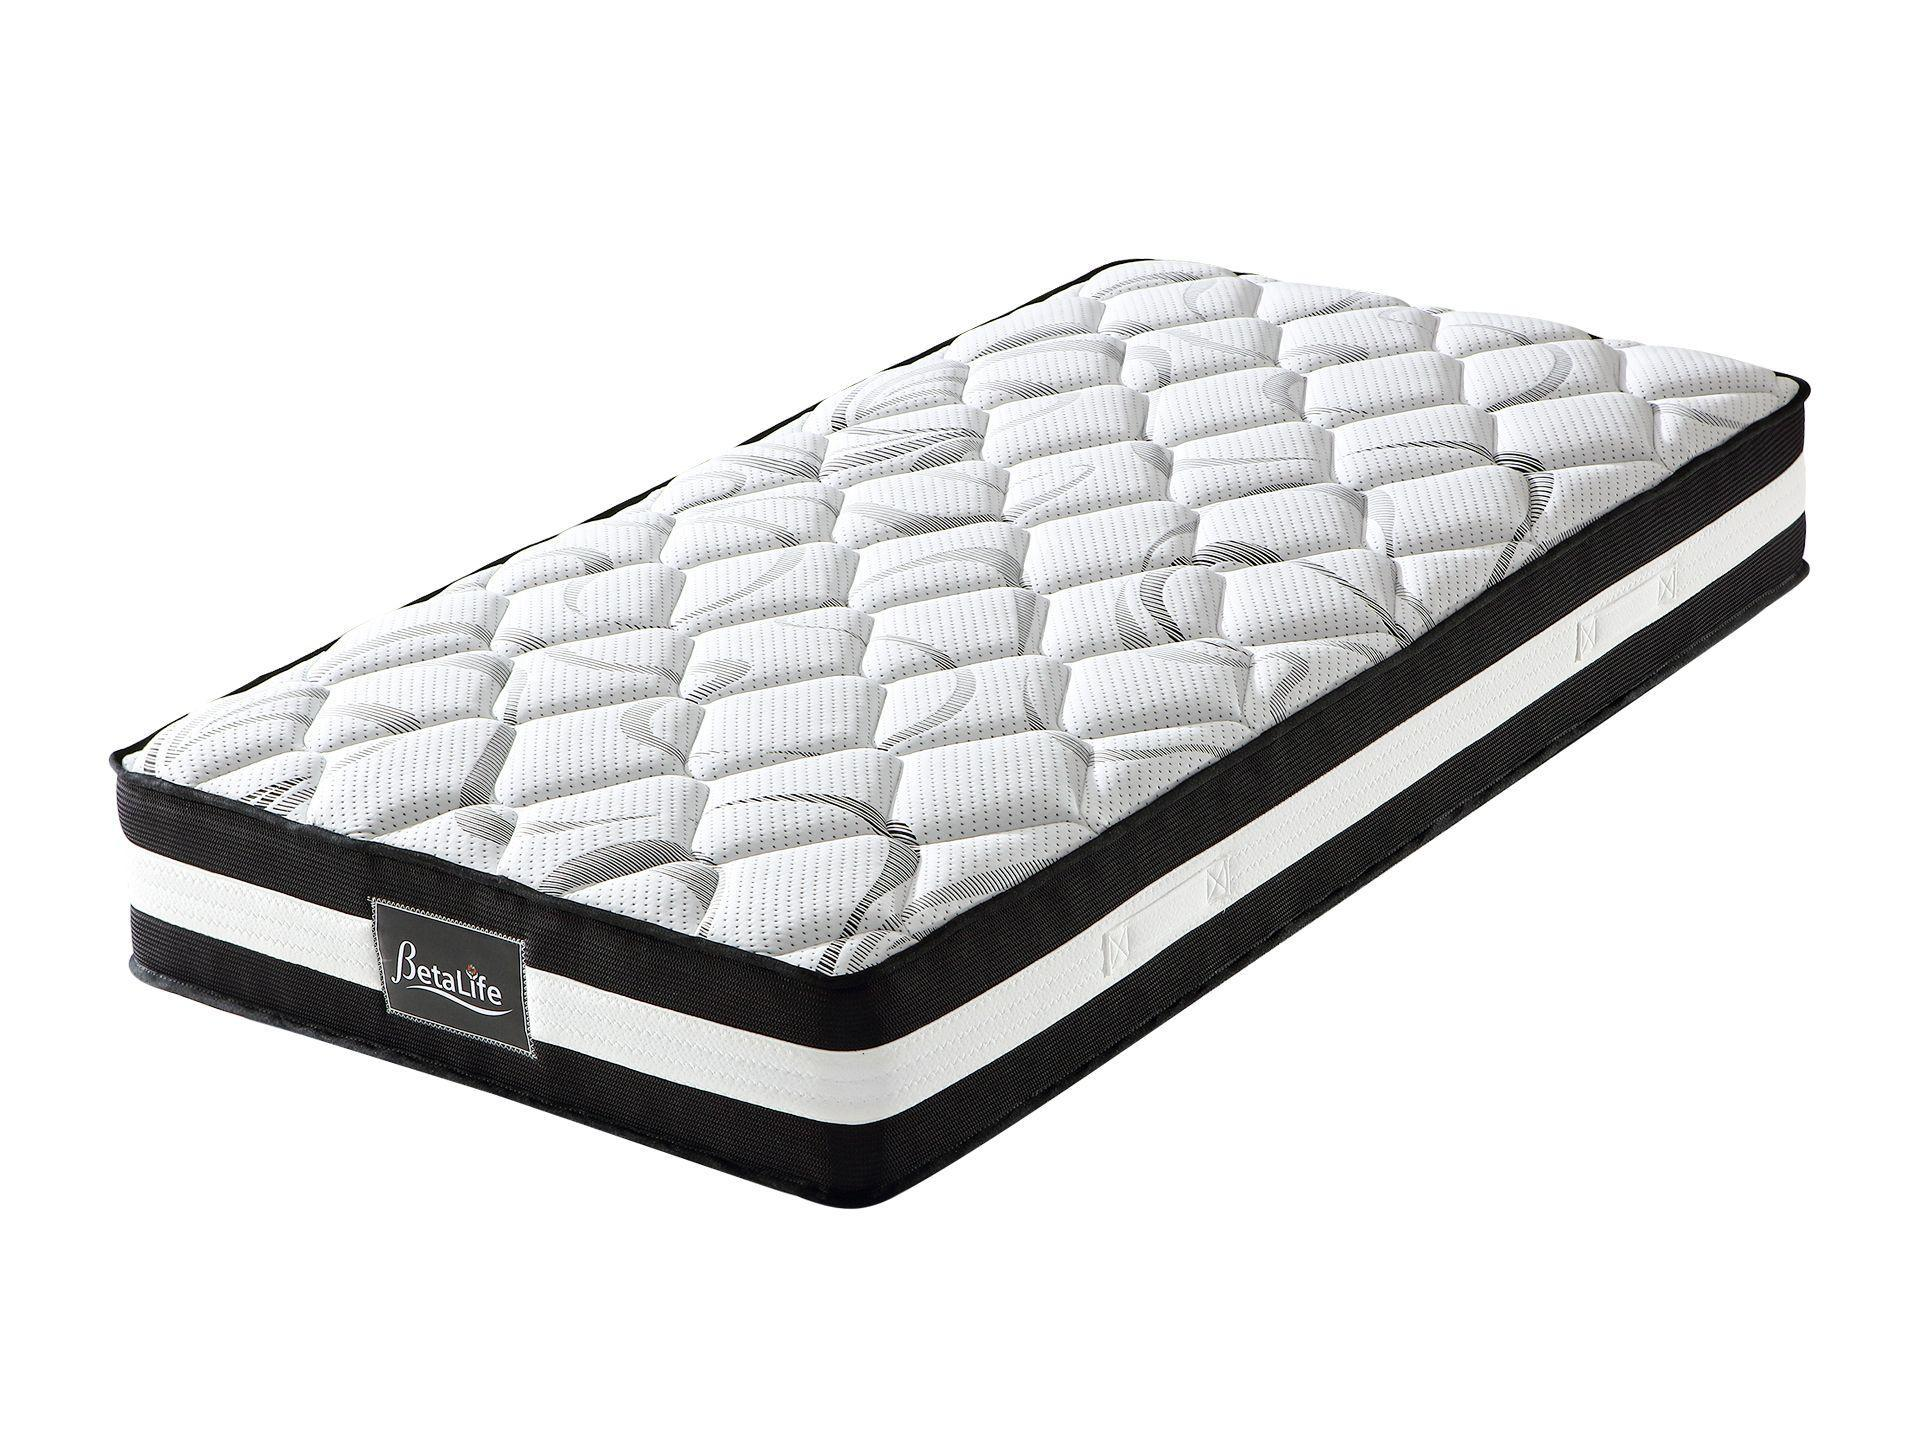Bed-Mattress: (100, 241, 1828, 1221)
